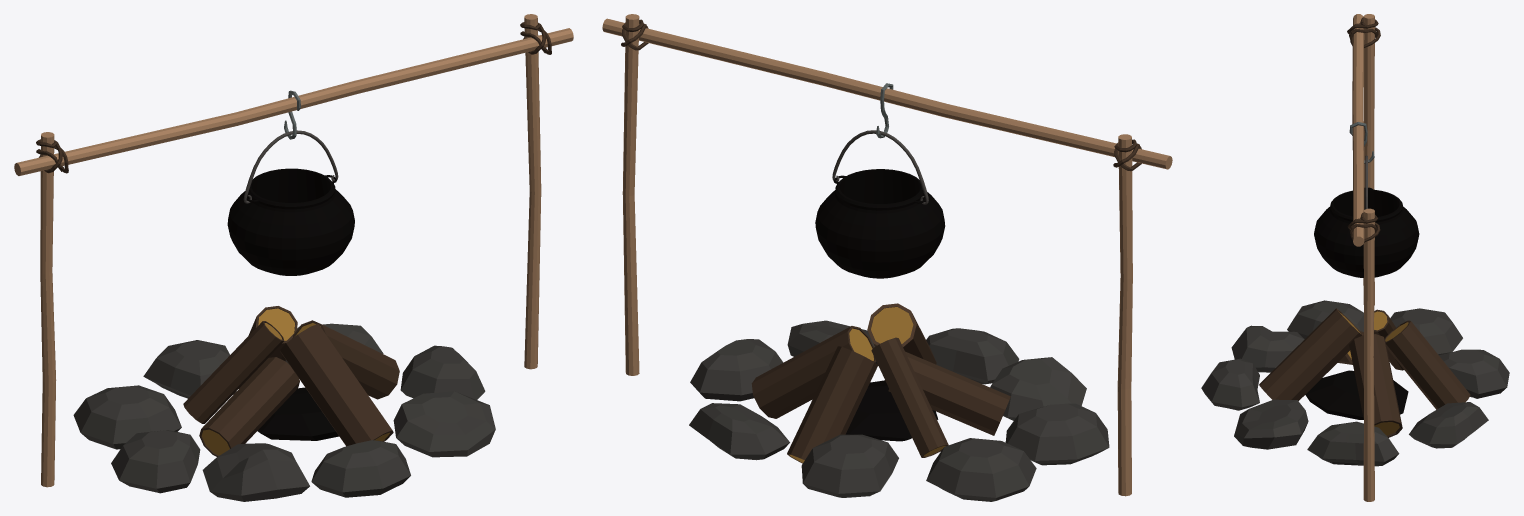
Rendered from SM_Bonfire_02.glb.
The picture shows the model from 3 angles, left to right: view 1: azimuth 30°, elevation 25°; view 2: azimuth 150°, elevation 25°; view 3: azimuth 270°, elevation 25°; orthographic projection. The views are drawn at different scales.
Visible parts, largest first — view 1: SM_Bonfire_02; view 2: SM_Bonfire_02; view 3: SM_Bonfire_02.
Boxes of the visible parts, bbox=[...] form: SM_Bonfire_02: bbox=[14, 14, 573, 501]; SM_Bonfire_02: bbox=[602, 14, 1172, 501]; SM_Bonfire_02: bbox=[1201, 14, 1509, 501].
Size of the model in its own units: 2.27 by 1.4 by 1.33.
1 material, 1 textured.
